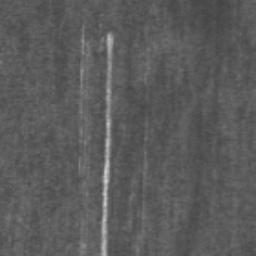Bright scratch: (101, 32, 113, 256)
